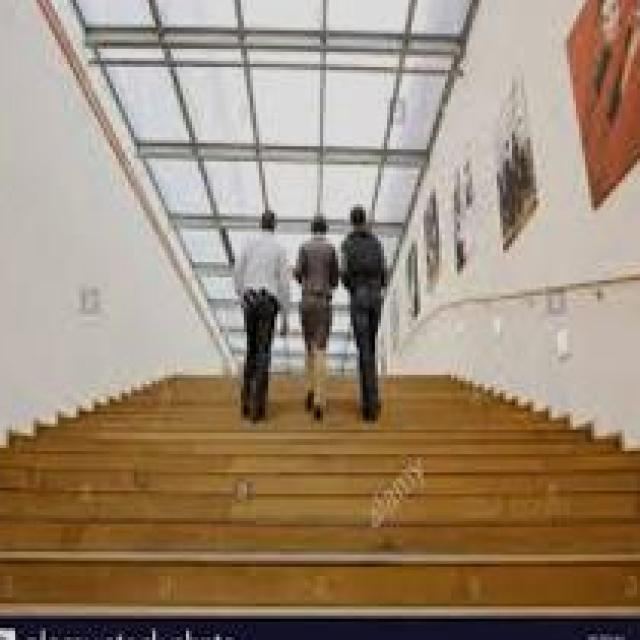upstair: (13, 373, 574, 586)
